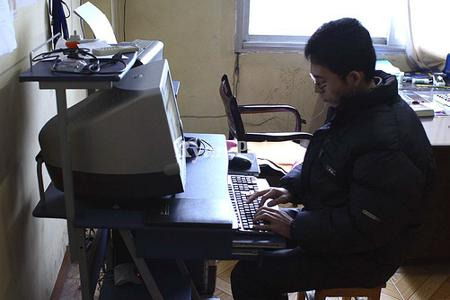person: (230, 19, 435, 300)
